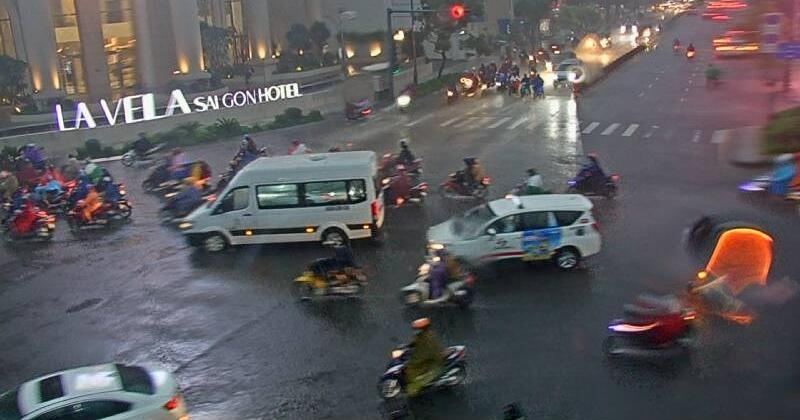xe hoi: (425, 193, 601, 270), (0, 363, 184, 420)
xe may: (376, 319, 466, 401)
xe van: (179, 152, 382, 251)
